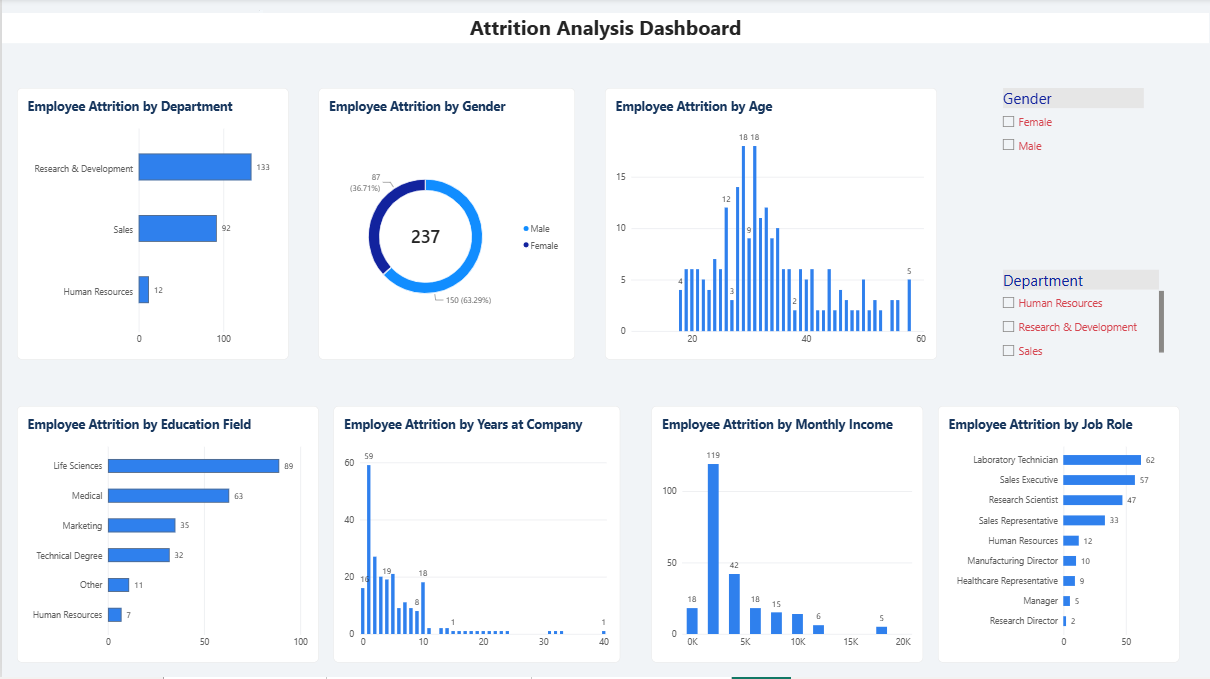

The page's visual inventory and layout, read from the dashboard file:
{"tool":"powerbi","page":{"name":"Attrition Analysis","canvas":[1920,1080],"ordinal":2},"visuals":[{"type":"textbox","box":[0,24,1920,48],"z":0},{"type":"clusteredBarChart","title":"Employee Attrition by Department","fields":{"Category":["WA_Fn-UseC_-HR-Employee-Attrition.Department"],"Y":["CountNonNull(WA_Fn-UseC_-HR-Employee-Attrition.EmployeeNumber)"]},"box":[24,144,432,432],"z":1},{"type":"donutChart","title":"Employee Attrition by Gender","fields":{"Category":["WA_Fn-UseC_-HR-Employee-Attrition.Gender"],"Y":["CountNonNull(WA_Fn-UseC_-HR-Employee-Attrition.EmployeeNumber)"]},"box":[504,144,408,432],"z":2},{"type":"clusteredColumnChart","title":"Employee Attrition by Age","fields":{"Category":["WA_Fn-UseC_-HR-Employee-Attrition.Age"],"Y":["CountNonNull(WA_Fn-UseC_-HR-Employee-Attrition.EmployeeNumber)"]},"box":[960,144,528,432],"z":3},{"type":"clusteredBarChart","title":"Employee Attrition by Job Role","fields":{"Category":["WA_Fn-UseC_-HR-Employee-Attrition.JobRole"],"Y":["CountNonNull(WA_Fn-UseC_-HR-Employee-Attrition.EmployeeNumber)"]},"box":[1488,648,384,408],"z":4},{"type":"clusteredBarChart","title":"Employee Attrition by Education Field","fields":{"Category":["WA_Fn-UseC_-HR-Employee-Attrition.EducationField"],"Y":["CountNonNull(WA_Fn-UseC_-HR-Employee-Attrition.EmployeeNumber)"]},"box":[24,648,480,408],"z":5},{"type":"clusteredColumnChart","title":"Employee Attrition by Years at Company","fields":{"Category":["WA_Fn-UseC_-HR-Employee-Attrition.YearsAtCompany"],"Y":["CountNonNull(WA_Fn-UseC_-HR-Employee-Attrition.EmployeeNumber)"]},"box":[528,648,456,408],"z":6},{"type":"clusteredColumnChart","title":"Employee Attrition by Monthly Income","fields":{"Category":["WA_Fn-UseC_-HR-Employee-Attrition.MonthlyIncome (bins)"],"Y":["CountNonNull(WA_Fn-UseC_-HR-Employee-Attrition.EmployeeNumber)"]},"box":[1032,648,432,408],"z":7},{"type":"slicer","fields":{"Values":["WA_Fn-UseC_-HR-Employee-Attrition.Department"]},"box":[1584,432,264,144],"z":8},{"type":"slicer","fields":{"Values":["WA_Fn-UseC_-HR-Employee-Attrition.Gender"]},"box":[1584,144,240,120],"z":9}]}

Visuals, with their boxes in screenshot pixels (x1, y1, x2, y2), scaled from the page's 1920x1080 canvas onto the 1210x679 screenshot:
textbox: rect(0, 15, 1209, 45)
"Employee Attrition by Department" clusteredBarChart: rect(15, 91, 287, 362)
"Employee Attrition by Gender" donutChart: rect(318, 91, 575, 362)
"Employee Attrition by Age" clusteredColumnChart: rect(605, 91, 938, 362)
"Employee Attrition by Job Role" clusteredBarChart: rect(938, 407, 1180, 664)
"Employee Attrition by Education Field" clusteredBarChart: rect(15, 407, 318, 664)
"Employee Attrition by Years at Company" clusteredColumnChart: rect(333, 407, 620, 664)
"Employee Attrition by Monthly Income" clusteredColumnChart: rect(650, 407, 923, 664)
slicer - WA_Fn-UseC_-HR-Employee-Attrition.Department: rect(998, 272, 1165, 362)
slicer - WA_Fn-UseC_-HR-Employee-Attrition.Gender: rect(998, 91, 1150, 166)
